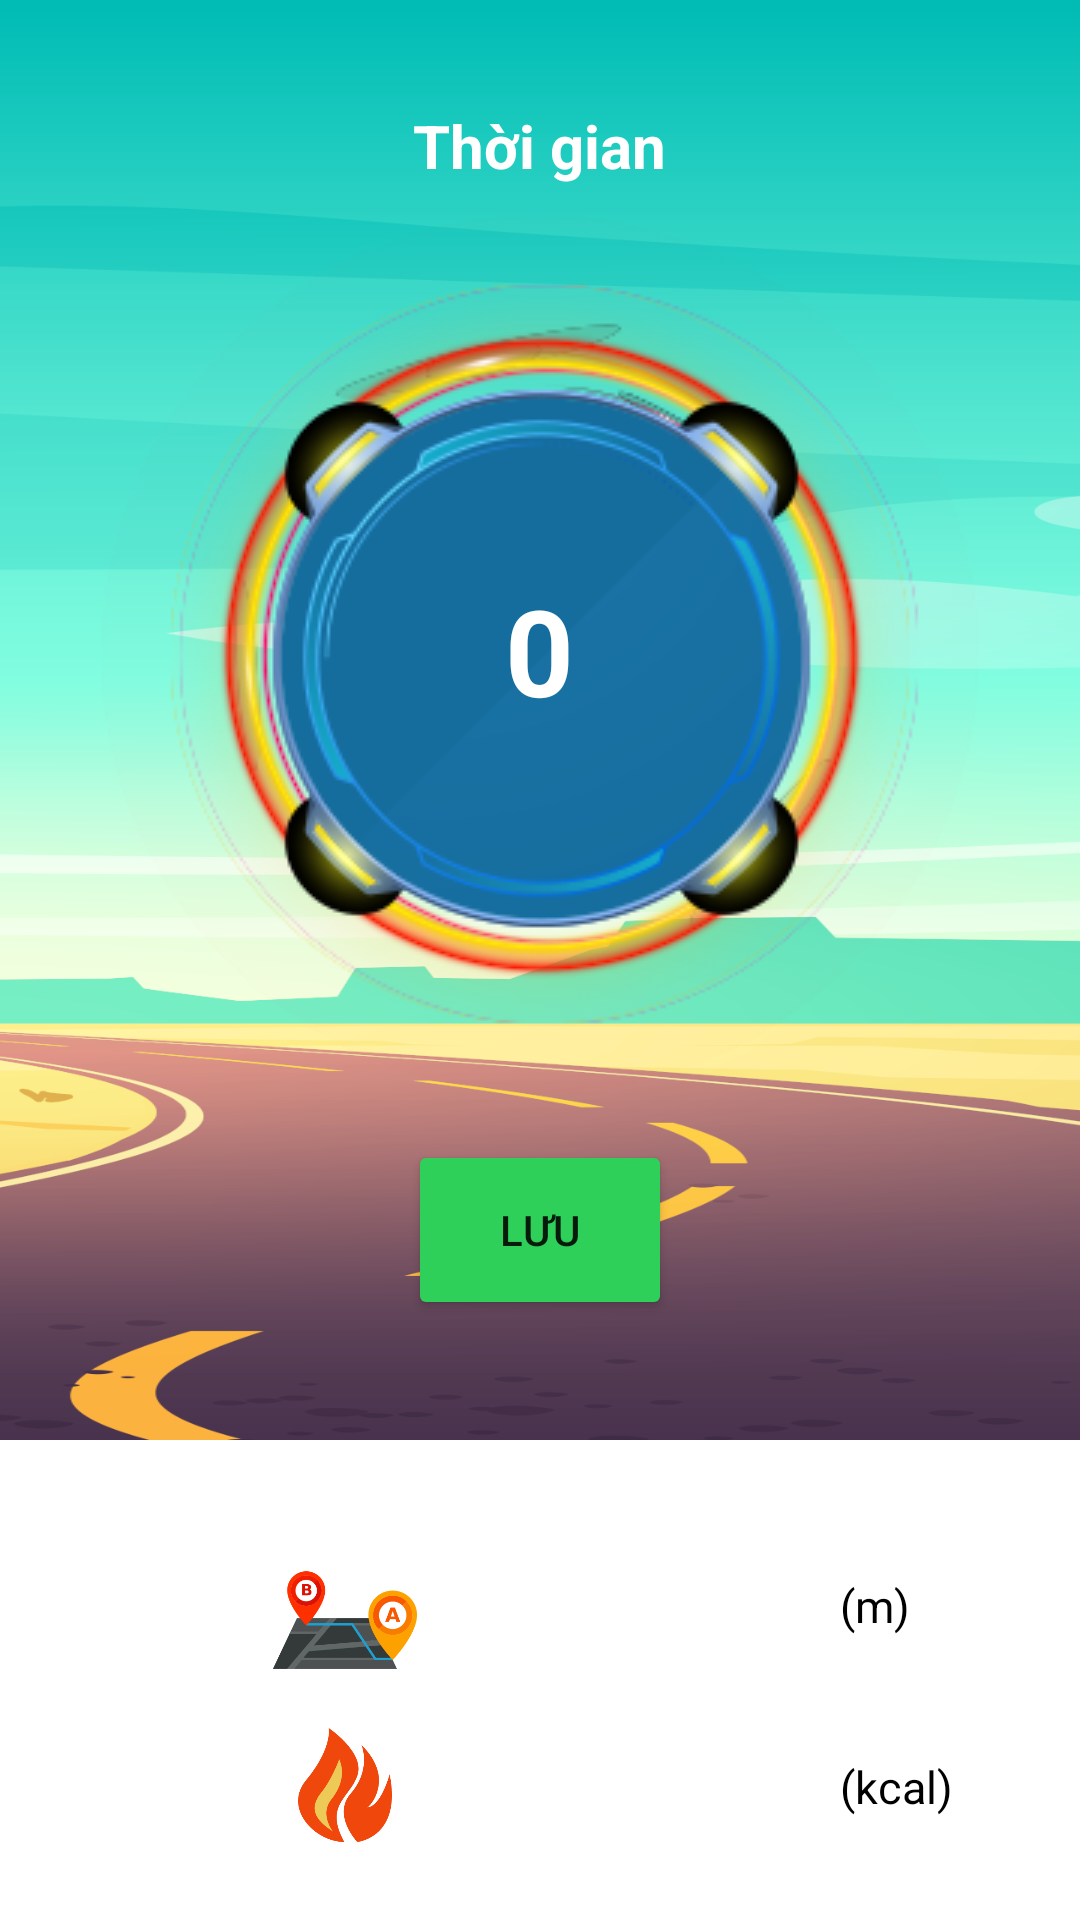

Named icons in this screenshot (1080px×1920px) and their centers, (x,y):
distance: (345,1620)
kcal: (345,1785)
